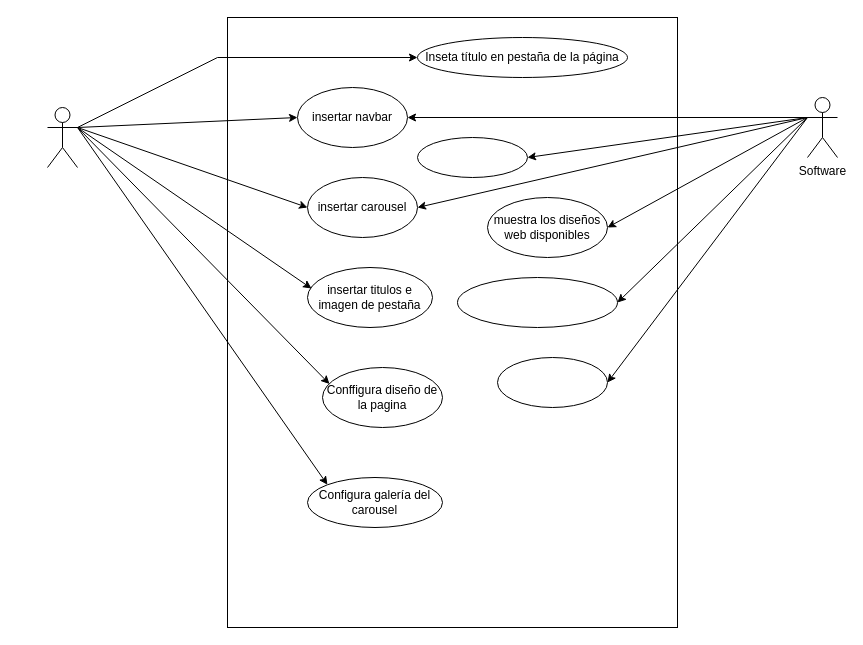
Some shapes in this 863 by 645 pixel diagram are drawn without their labels. Each missing label, with the centre of its shape:
"Configura los html, css y javascript" goes at point (552, 382).
"Diseñador admin" goes at point (62, 137).
"muestra opciones de configuracion de diseños" goes at point (537, 302).
"Muestra sitio web" goes at point (472, 157).
